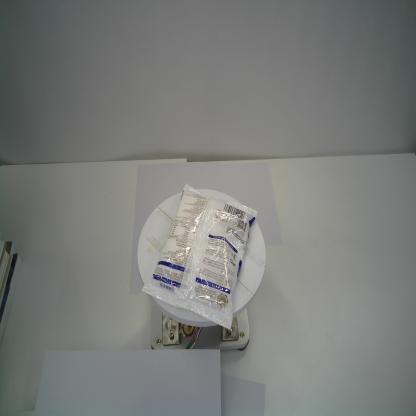Seasoner: (140, 181, 258, 331)
